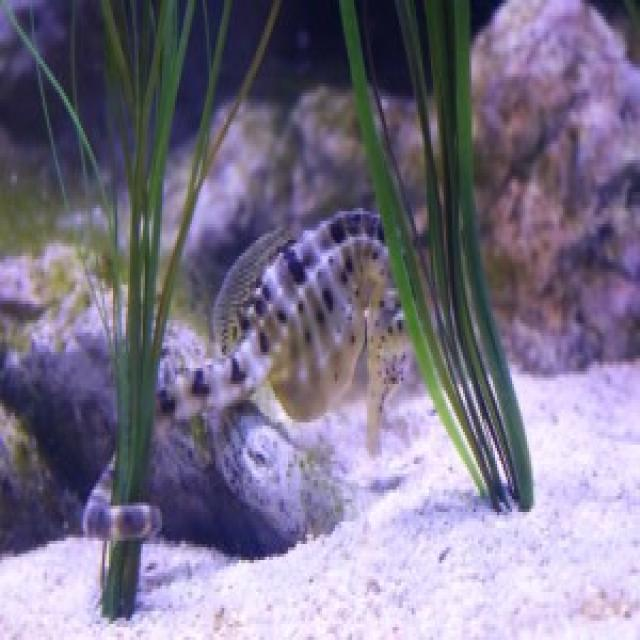Seahorse: (175, 223, 423, 447)
